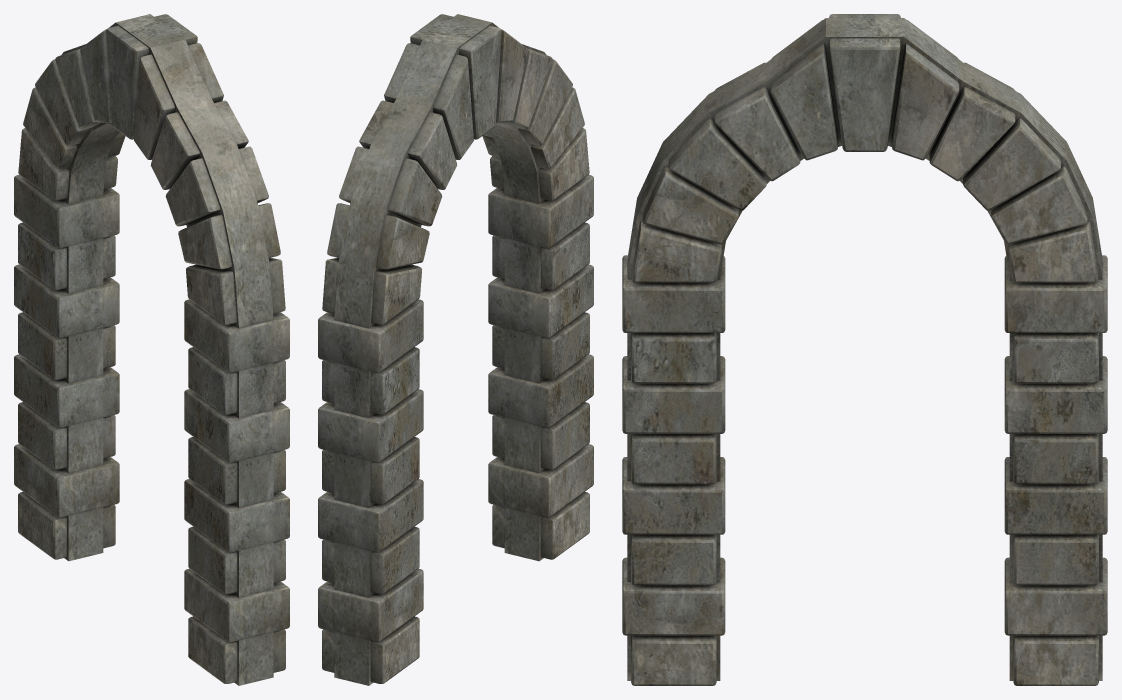
The model's file is pointed_arch.glb.
3 views of the same model, side by side, from view 1: azimuth 30°, elevation 25°; view 2: azimuth 150°, elevation 25°; view 3: azimuth 270°, elevation 25° (orthographic). The views are drawn at different scales.
Parts seen in each view (by area): view 1: Doorway_0; view 2: Doorway_0; view 3: Doorway_0.
Part boxes in pixels (x1,y1,x2,y2): Doorway_0: (14, 14, 289, 685); Doorway_0: (318, 14, 593, 685); Doorway_0: (622, 14, 1107, 685).
Bounding box in the file's own units: 0.4131 × 3.62 × 2.47.
Materials: 1 (1 with a texture image).
